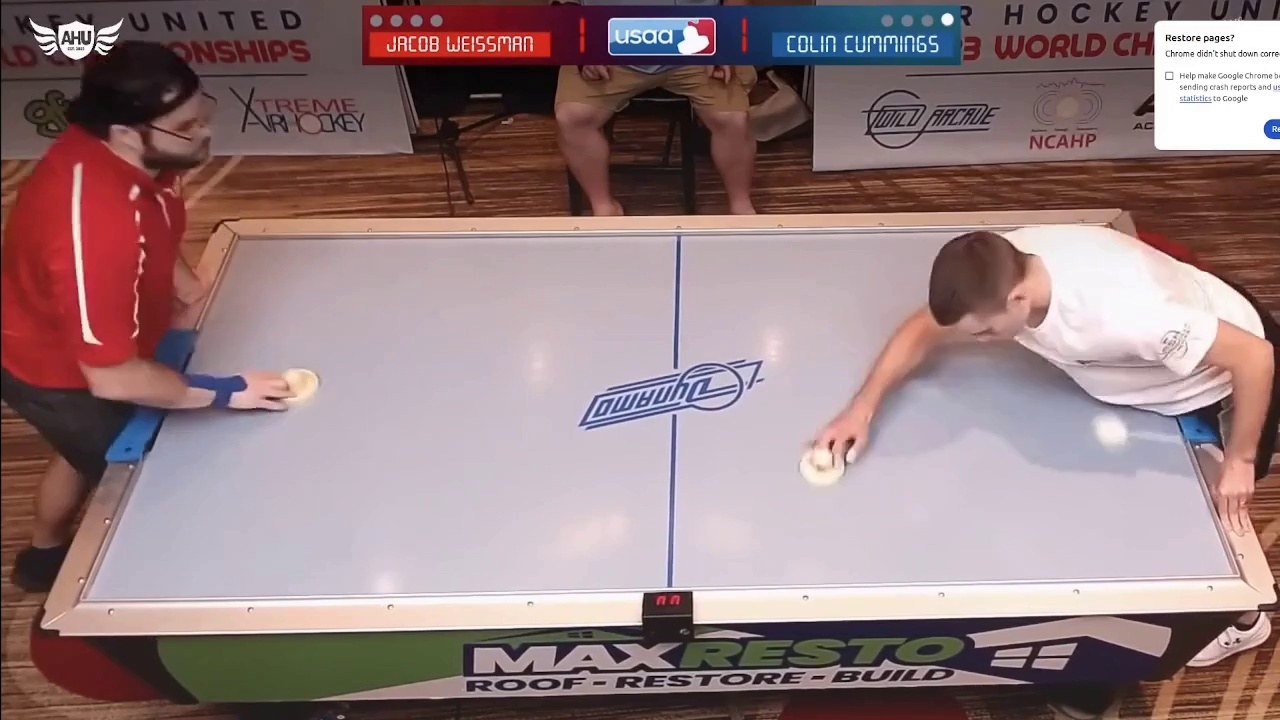player: (799, 446, 850, 486), (275, 368, 319, 400)
puck: (1092, 411, 1137, 451)
table: (62, 215, 1264, 597)
